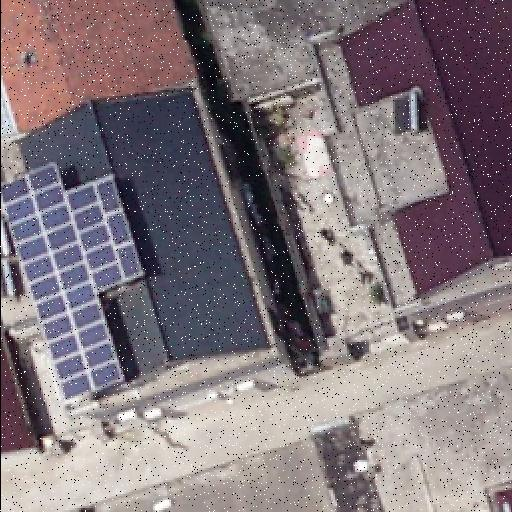solar-panel: (0, 150, 149, 407)
